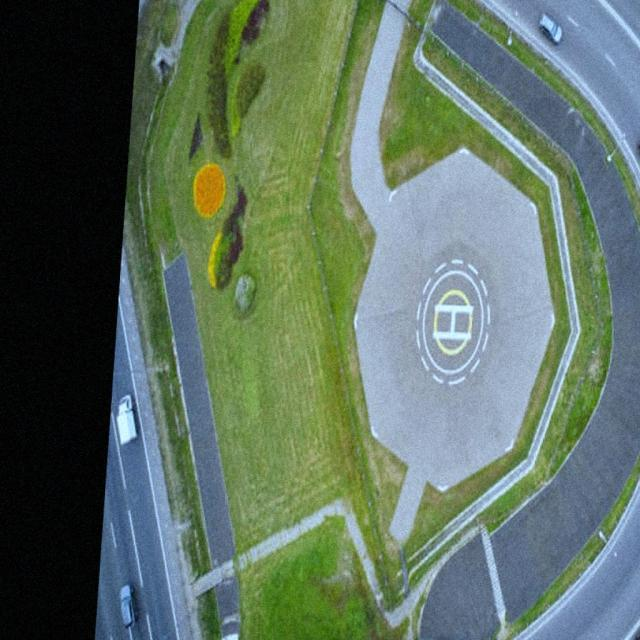helipad: (418, 268, 487, 374)
